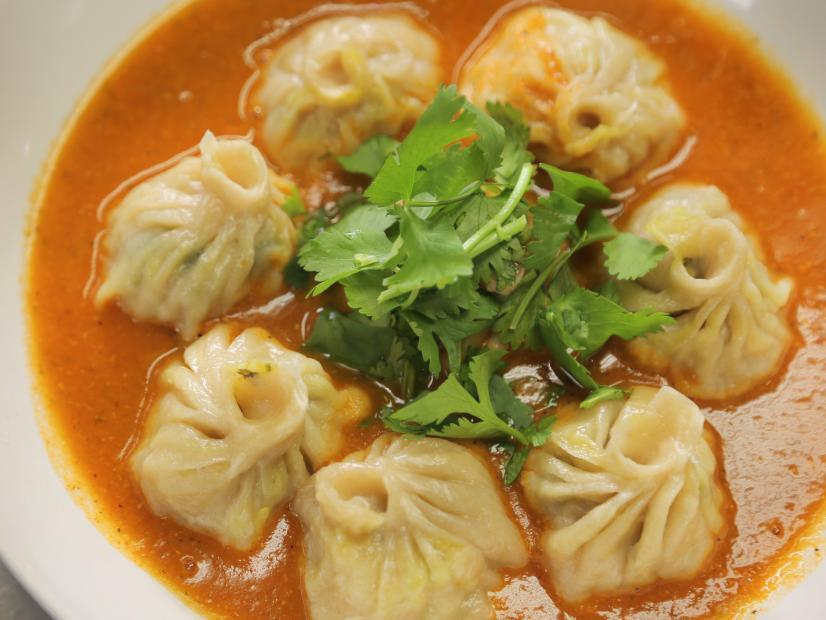momos: (131, 324, 371, 549), (294, 434, 528, 620), (521, 387, 724, 601), (95, 131, 298, 340), (460, 5, 686, 185), (616, 182, 792, 401), (255, 13, 440, 169)
